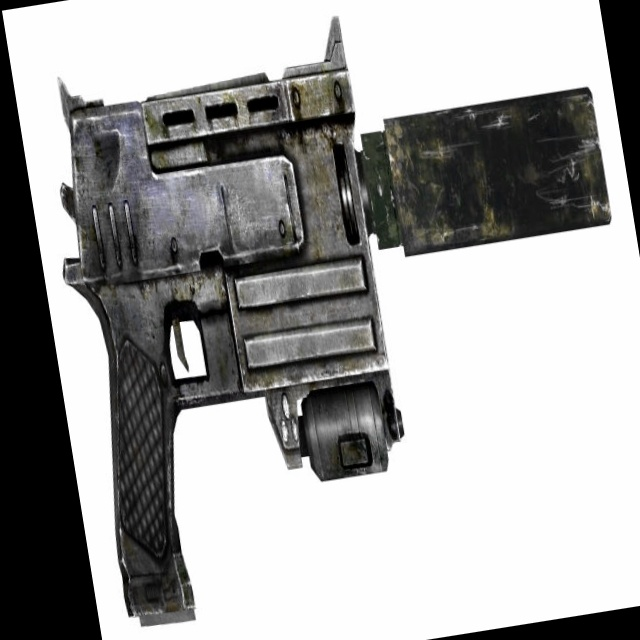gun: (21, 0, 640, 640)
